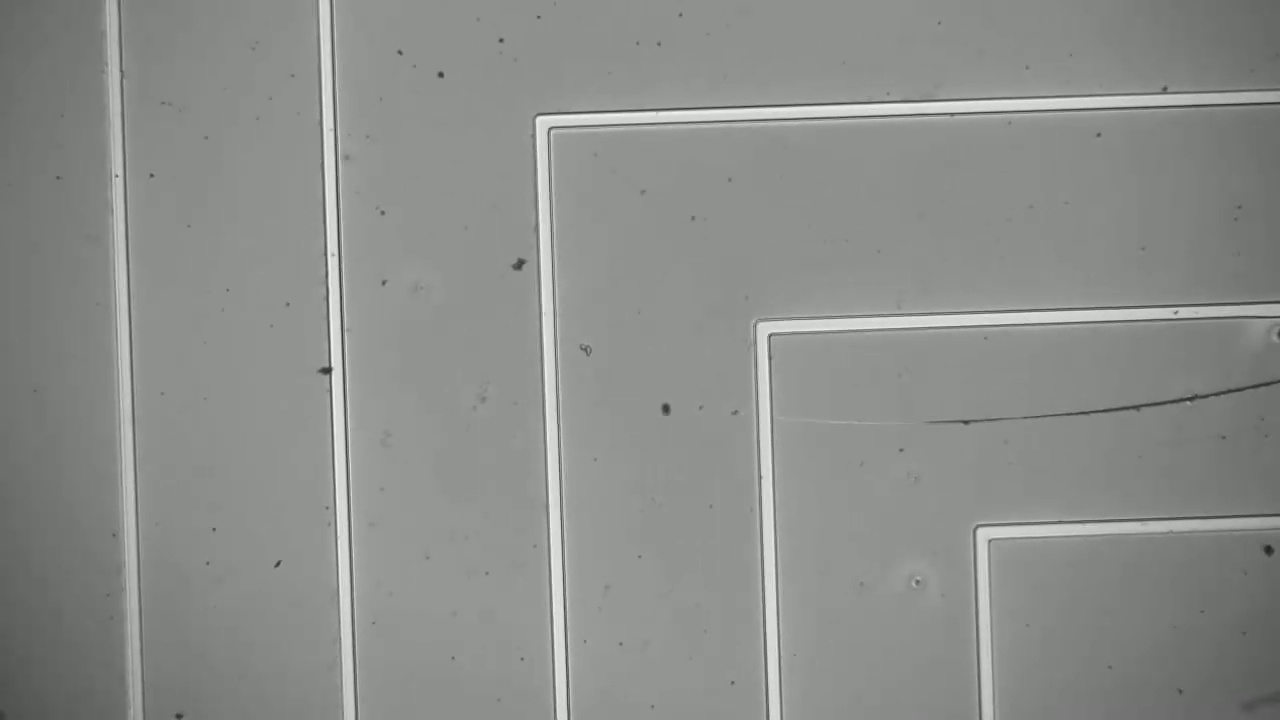scratch: (922, 354, 1267, 457)
stains_enbedded: (308, 355, 357, 393)
